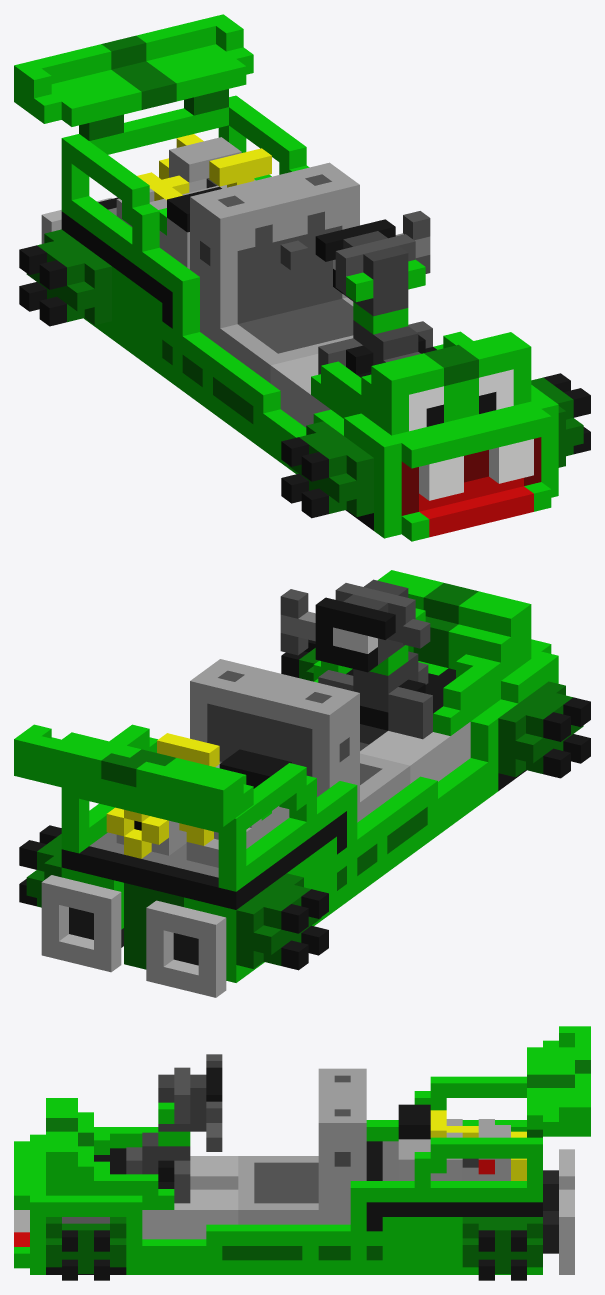
File: Green_Reptile_Chassis.obj
3 views of the same model, one above another, from view 1: azimuth 30°, elevation 25°; view 2: azimuth 150°, elevation 25°; view 3: azimuth 270°, elevation 25° (orthographic). The views are drawn at different scales.
Size of the model in its own units: 1.6 by 1.3 by 3.6.
Materials: 1 (1 with a texture image).
